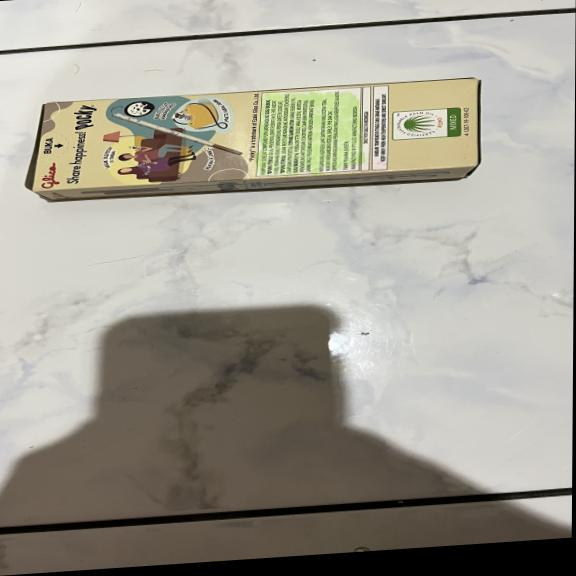Kertas: (30, 74, 485, 192)
